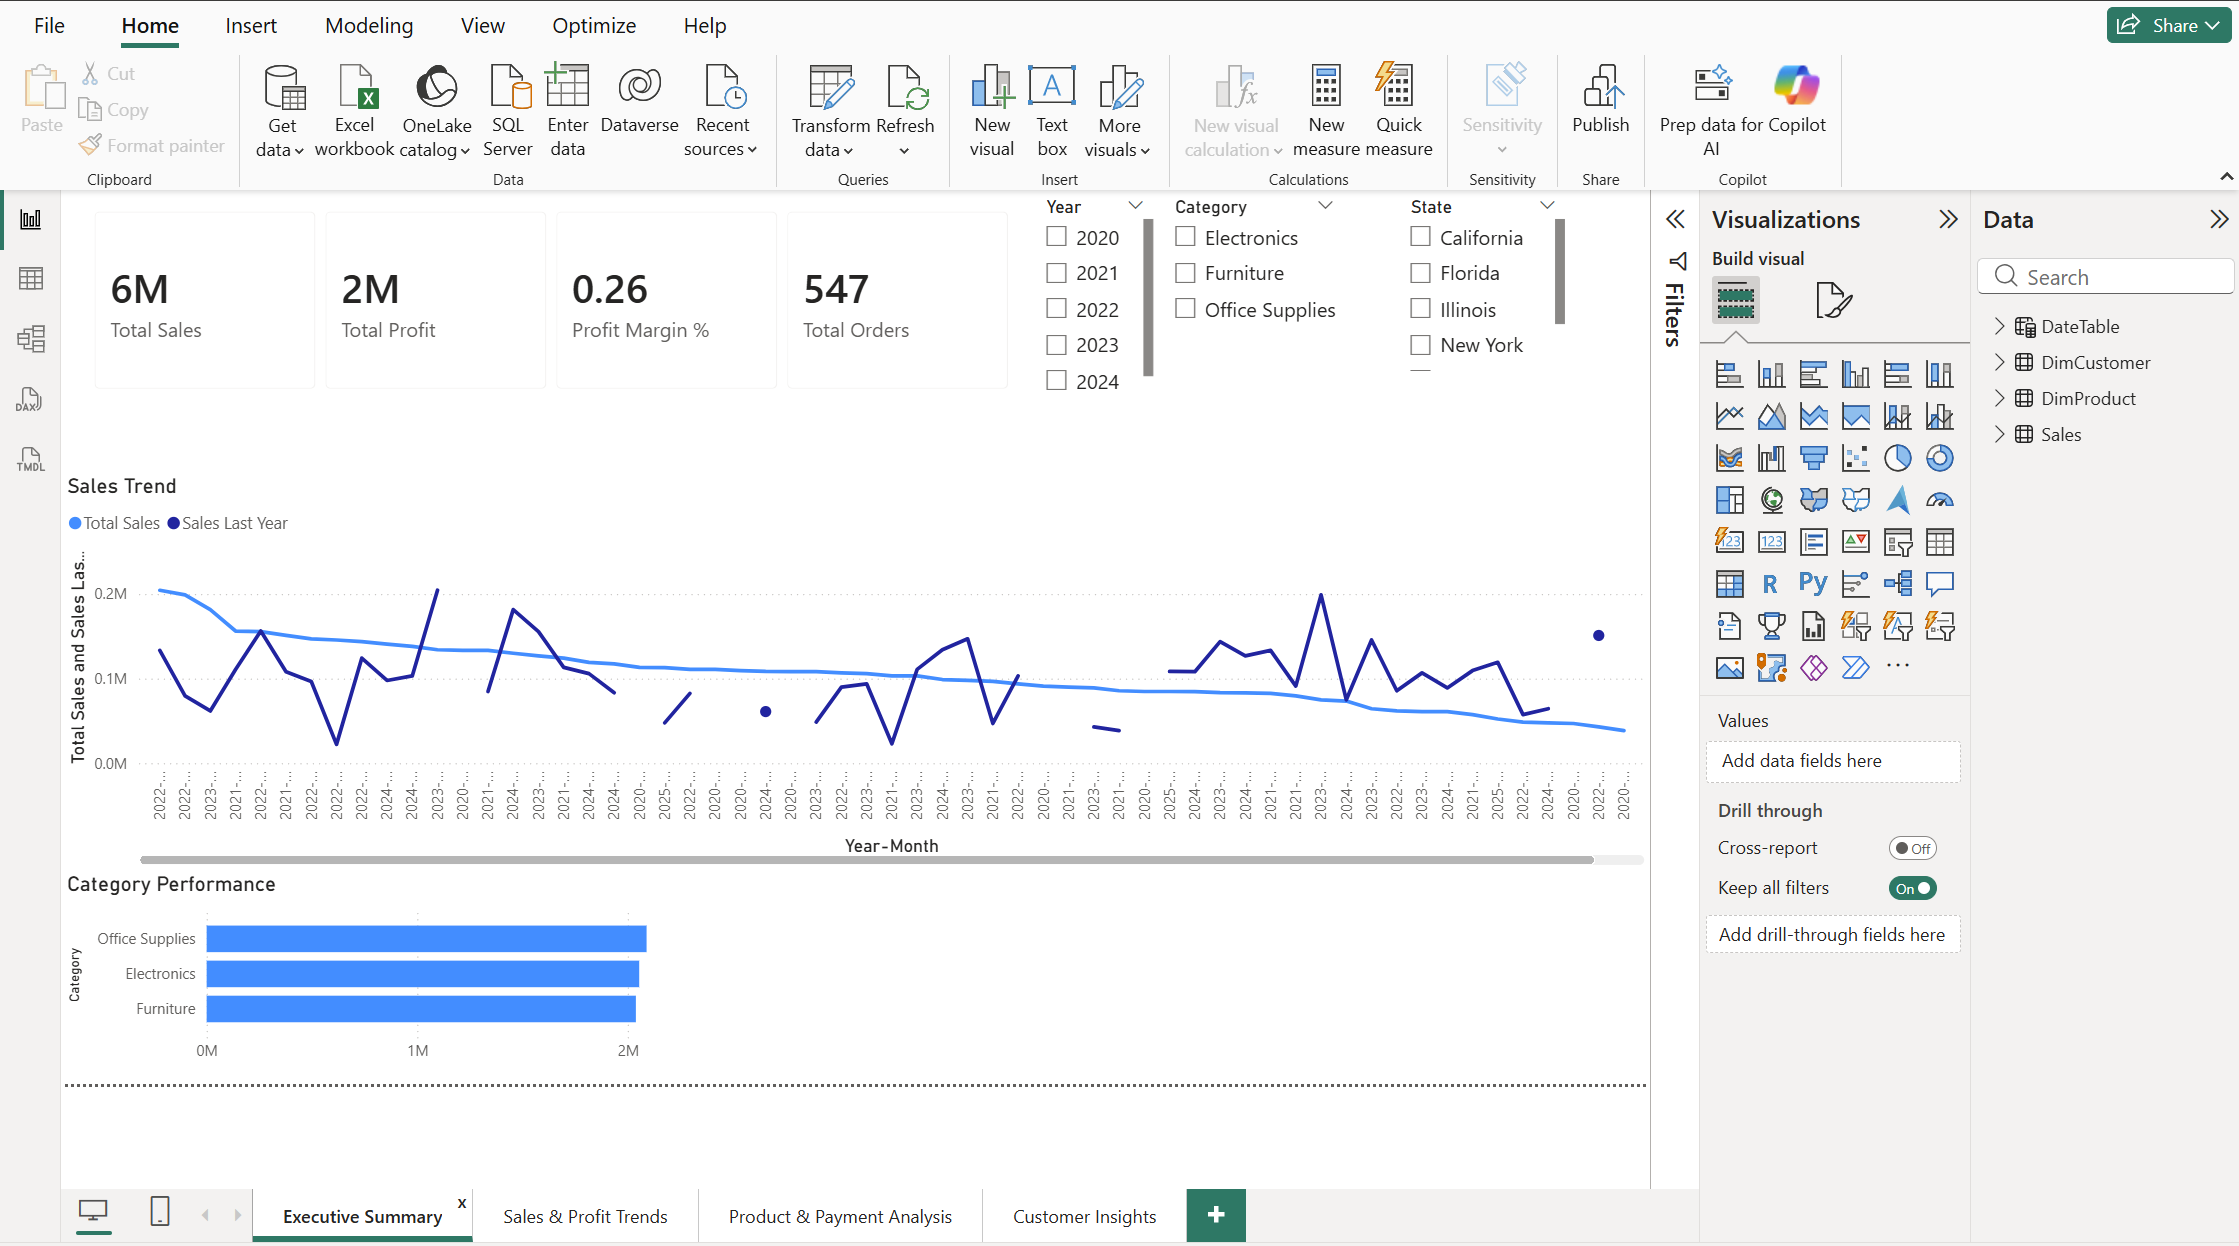

The dashboard page shown, as its layout file describes it:
{"tool":"powerbi","page":{"name":"Executive Summary","canvas":[1280,720],"ordinal":0},"visuals":[{"type":"cardVisual","fields":{"Data":["Sales.Total Sales","Sales.Total Profit","Sales.Profit Margin %","Sales.Total Orders"]},"box":[10,0,771,177],"z":0},{"type":"lineChart","title":"Sales Trend","fields":{"Category":["DateTable.Year-Month"],"Y":["Sales.Total Sales","Sales.Sales Last Year"]},"box":[0,228,1280,320],"z":1},{"type":"clusteredBarChart","title":"Category Performance","fields":{"Category":["DimProduct.Category"],"Y":["Sales.Total Sales"]},"box":[0,548,555,163],"z":2},{"type":"slicer","fields":{"Values":["DateTable.Year"]},"box":[781,0,104,177],"z":3},{"type":"slicer","fields":{"Values":["DimProduct.Category"]},"box":[885,0,153,134],"z":4},{"type":"slicer","fields":{"Values":["Sales.State"]},"box":[1074,0,142,150],"z":5}]}

Visuals, with their boxes on the page's 1280x720 design canvas (x1, y1, x2, y2). These are canvas units, not pixel positions in the 2239x1246 screenshot, which may show the page scaled, cropped or inside an application window:
cardVisual - Sales.Total Sales x Sales.Total Profit: (x1=10, y1=0, x2=781, y2=177)
"Sales Trend" lineChart: (x1=0, y1=228, x2=1280, y2=548)
"Category Performance" clusteredBarChart: (x1=0, y1=548, x2=555, y2=711)
slicer - DateTable.Year: (x1=781, y1=0, x2=885, y2=177)
slicer - DimProduct.Category: (x1=885, y1=0, x2=1038, y2=134)
slicer - Sales.State: (x1=1074, y1=0, x2=1216, y2=150)
